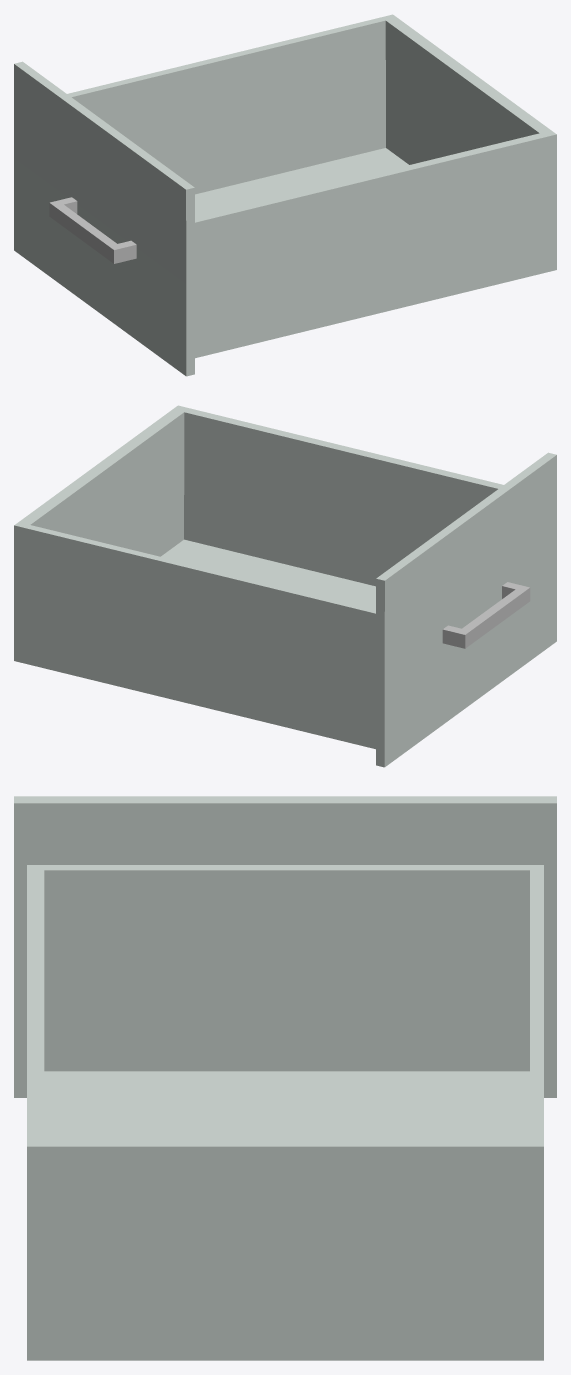
File: SM_Table_Box_A_01.fbx
3 views of the same model, one above another, from view 1: azimuth 30°, elevation 25°; view 2: azimuth 150°, elevation 25°; view 3: azimuth 270°, elevation 25° (orthographic). The views are drawn at different scales.
Parts seen in each view (by area): view 1: SM_Table_Box_A_01; view 2: SM_Table_Box_A_01; view 3: SM_Table_Box_A_01.
Boxes of the visible parts, box(x1,y1,x2,y2) form: SM_Table_Box_A_01: box(14, 14, 556, 376); SM_Table_Box_A_01: box(14, 405, 556, 767); SM_Table_Box_A_01: box(14, 796, 556, 1360).
Bounding box in the file's own units: 48.61 × 21.82 × 36.45.
